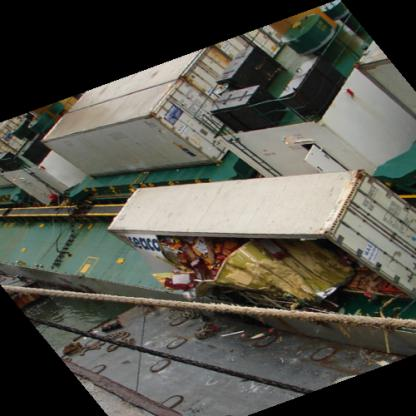Damage: (110, 218, 410, 319)
